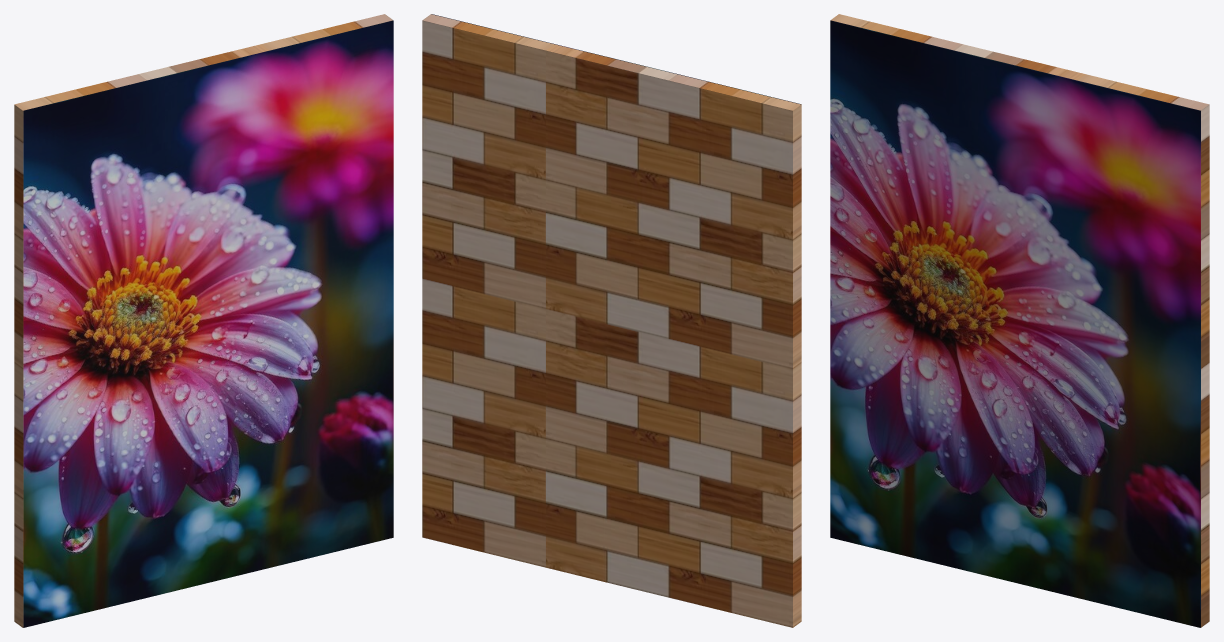
3 renders of one model, left to right at view 1: azimuth 30°, elevation 25°; view 2: azimuth 150°, elevation 25°; view 3: azimuth 330°, elevation 25°, orthographic.
Parts seen in each view (by area): view 1: wall1_8x6, wall_8x6; view 2: wall_8x6; view 3: wall1_8x6, wall_8x6.
Boxes of the visible parts, x1,y1,x2,y2 form: wall1_8x6: [23, 20, 393, 627]; wall_8x6: [14, 14, 392, 627]; wall_8x6: [422, 14, 801, 627]; wall1_8x6: [830, 20, 1200, 627]; wall_8x6: [830, 14, 1209, 627].
Bounding box in the file's own units: 6 × 8 × 0.2537.
2 materials, 2 textured.
